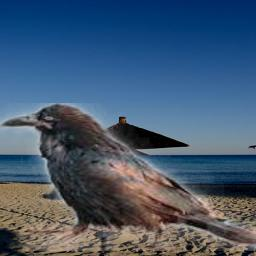Crow: (0, 103, 256, 251)
